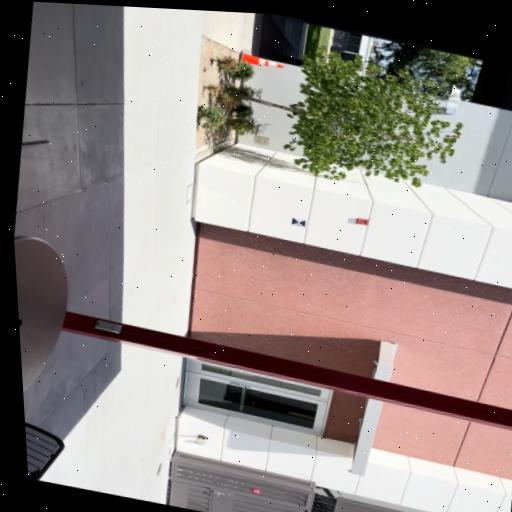target2: (291, 217, 307, 229)
